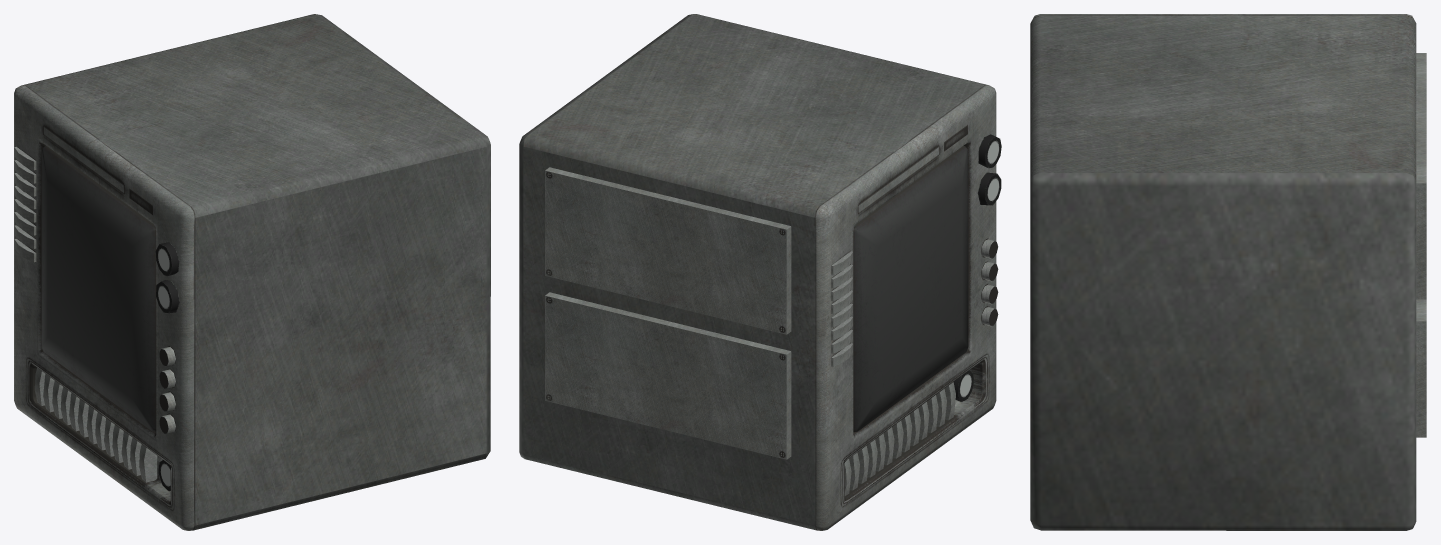
Rendered from tv1_reference.002.fbx.
3 renders of one model, left to right at view 1: azimuth 30°, elevation 25°; view 2: azimuth 150°, elevation 25°; view 3: azimuth 270°, elevation 25°, orthographic. The views are drawn at different scales.
Visible parts, largest first — view 1: tv1_reference.002; view 2: tv1_reference.002; view 3: tv1_reference.002.
Part boxes in pixels (x1,y1,x2,y2): tv1_reference.002: [14, 14, 490, 530]; tv1_reference.002: [519, 14, 1001, 530]; tv1_reference.002: [1030, 14, 1426, 530].
Bounding box in the file's own units: 43.96 × 42.88 × 43.01.
